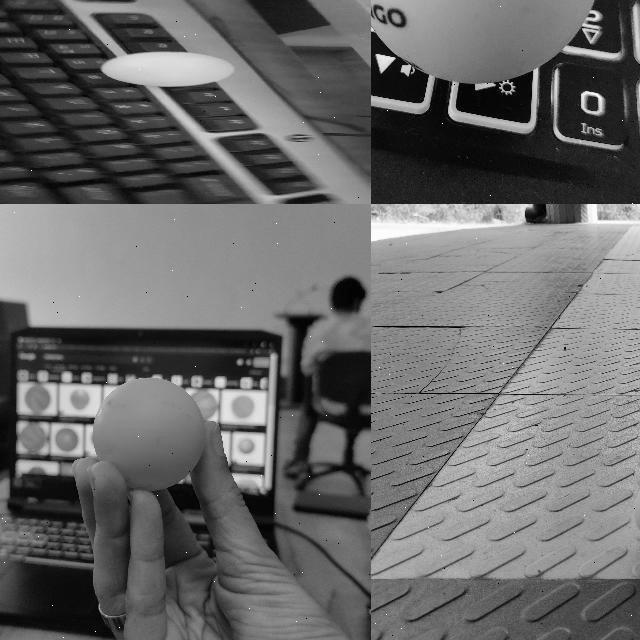ping-pong-ball: (371, 0, 603, 84), (92, 378, 206, 490), (96, 51, 232, 86)
